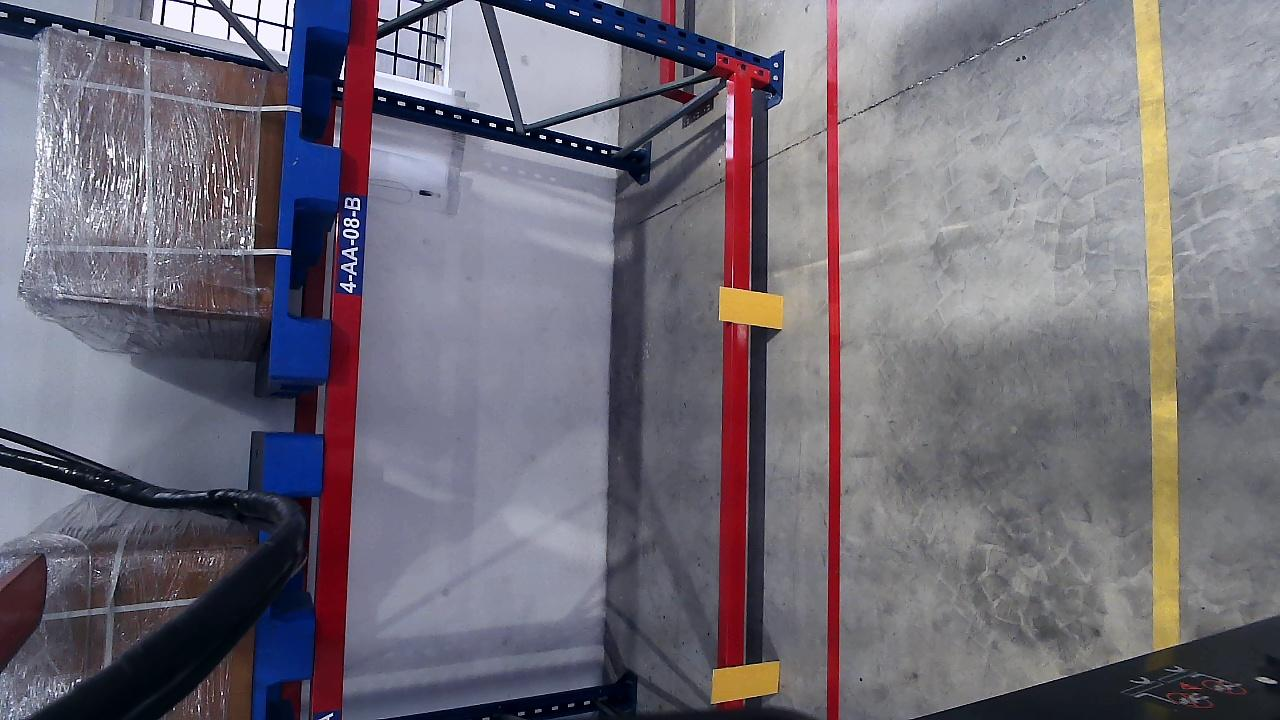h_rack: (312, 3, 393, 672), (715, 77, 758, 703)
orange_strip: (711, 660, 780, 702), (719, 287, 784, 329)
red_line: (814, 2, 845, 712)
small_pallet: (275, 0, 350, 379)
yellow_line: (1151, 0, 1182, 652)
